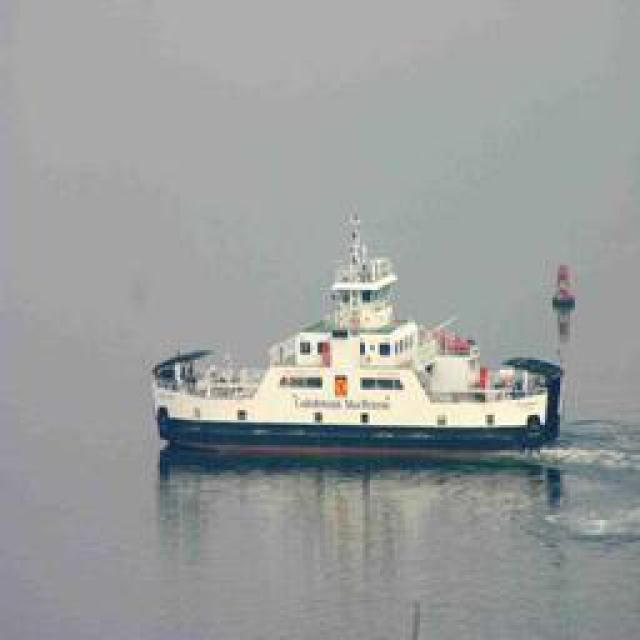Ship: (152, 204, 572, 454)
